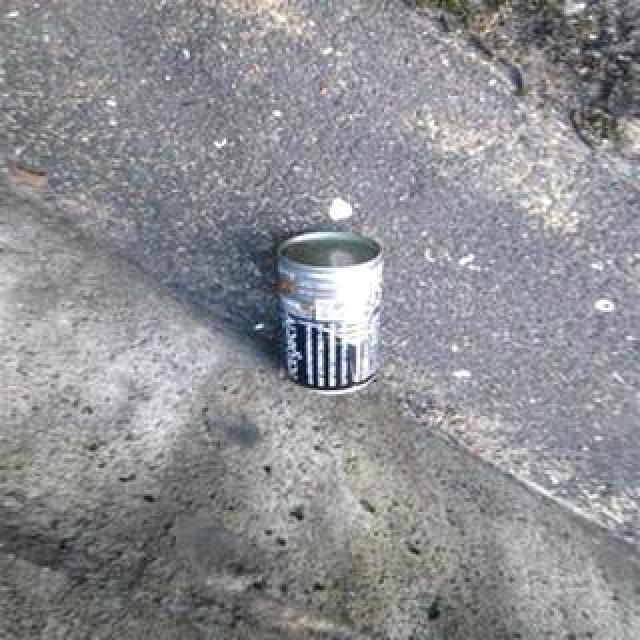Can: (276, 217, 398, 411)
